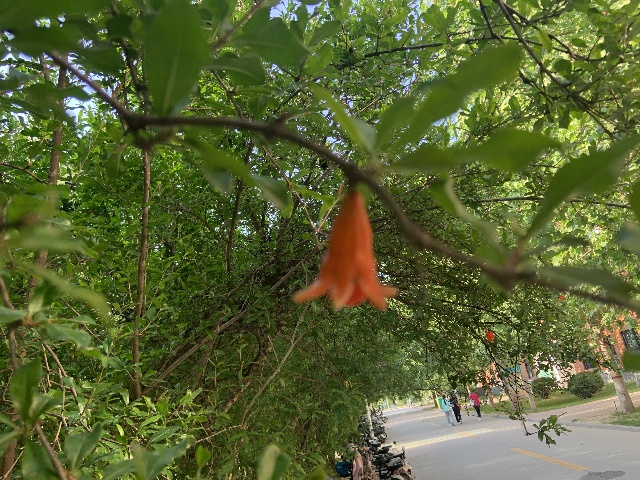flower: (293, 186, 397, 312), (485, 330, 494, 342), (558, 295, 565, 300)
